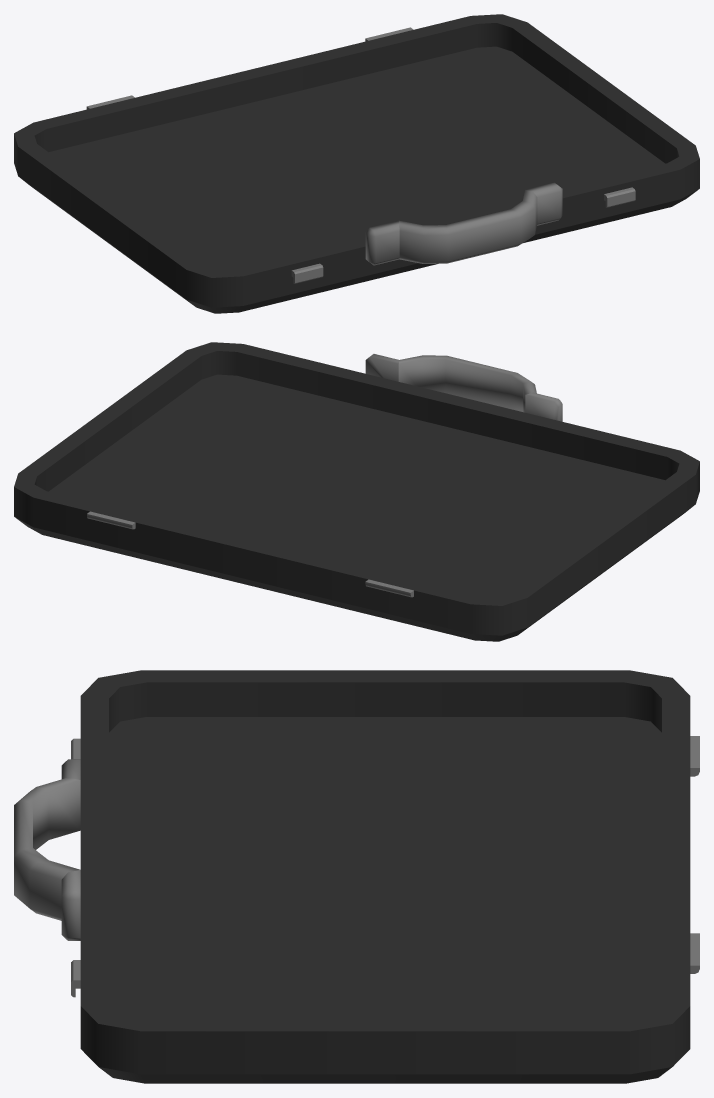
File: ToolKitWrenches_v2.fbx
3 renders of one model, top to bottom at view 1: azimuth 30°, elevation 25°; view 2: azimuth 150°, elevation 25°; view 3: azimuth 270°, elevation 25°, orthographic. The views are drawn at different scales.
Parts seen in each view (by area): view 1: ToolKitWrenchesBody_v2; view 2: ToolKitWrenchesBody_v2; view 3: ToolKitWrenchesBody_v2.
Part boxes in pixels (x1,y1,x2,y2): ToolKitWrenchesBody_v2: [14, 14, 699, 313]; ToolKitWrenchesBody_v2: [14, 342, 699, 641]; ToolKitWrenchesBody_v2: [14, 670, 699, 1083].
Bounding box in the file's own units: 44.9 × 5 × 36.06.
